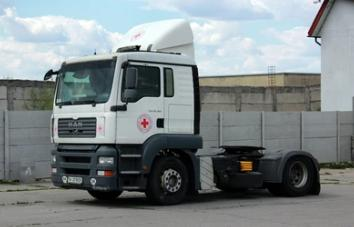vehicle: (44, 19, 321, 205)
